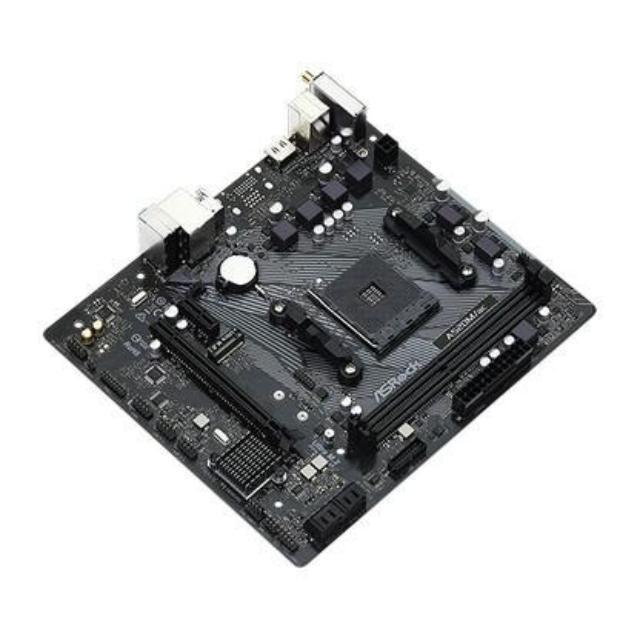Mainboard: (39, 65, 596, 572)
